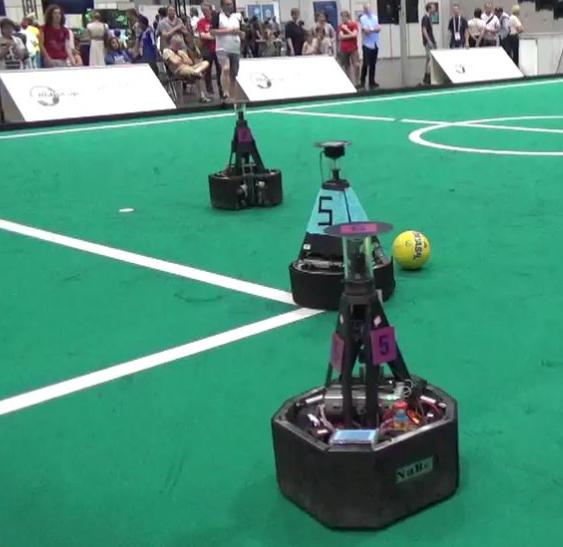robot: (271, 219, 466, 537), (284, 134, 398, 306), (199, 95, 289, 210)
